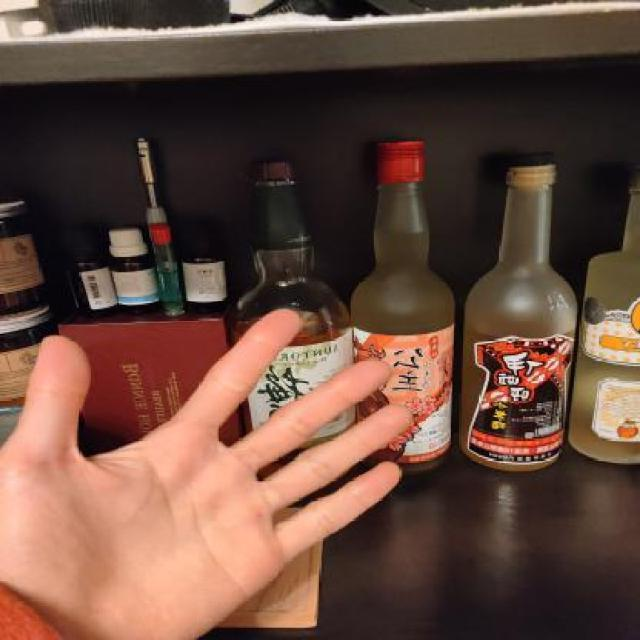bare_hand: (0, 283, 433, 640)
